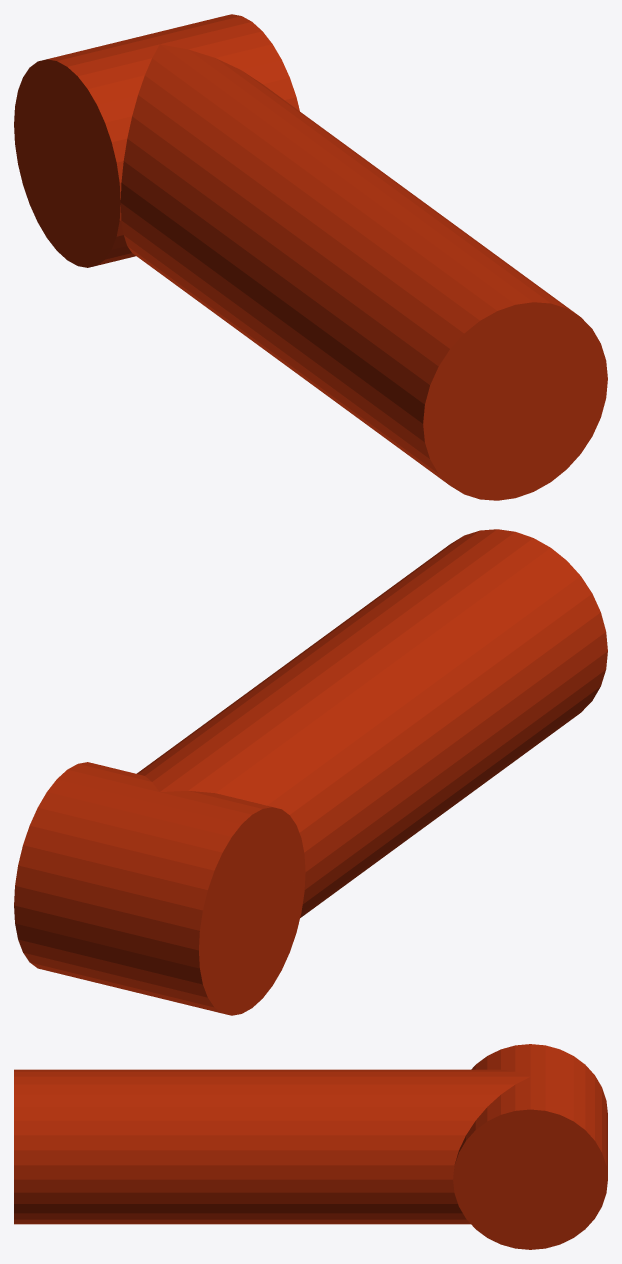
3 views of the same model, one above another, from view 1: azimuth 30°, elevation 25°; view 2: azimuth 150°, elevation 25°; view 3: azimuth 270°, elevation 25° (orthographic). The views are drawn at different scales.
Visible parts, largest first — view 1: l1; view 2: l1; view 3: l1.
Boxes of the visible parts, x1,y1,x2,y2 form: l1: (14,14,607,500); l1: (14,529,607,1015); l1: (14,1044,607,1249).
Size of the model in its own units: 0.3 by 0.3 by 1.15.
